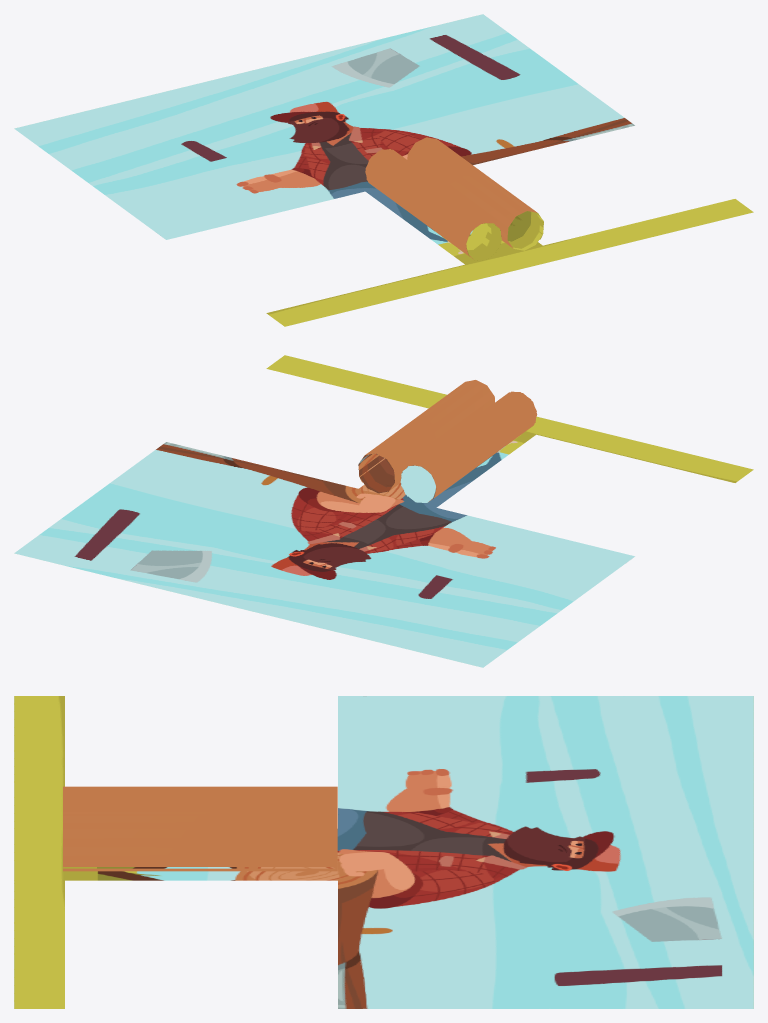
The model's file is Level 14 Pants.fbx.
3 renders of one model, top to bottom at view 1: azimuth 30°, elevation 25°; view 2: azimuth 150°, elevation 25°; view 3: azimuth 270°, elevation 25°, orthographic. The views are drawn at different scales.
Visible parts, largest first — view 1: main, left_leg, right_leg; view 2: main, left_leg, right_leg; view 3: main, right_leg, left_leg.
Boxes of the visible parts, box(x1,y1,x2,y2) form: main: box(14, 14, 753, 326); left_leg: box(365, 149, 501, 260); right_leg: box(407, 137, 543, 250); main: box(14, 355, 753, 667); left_leg: box(400, 391, 537, 503); right_leg: box(358, 380, 494, 493); main: box(14, 696, 753, 1008); right_leg: box(63, 812, 337, 871); left_leg: box(63, 786, 337, 811).
Size of the model in its own units: 2401 by 193 by 2401.
